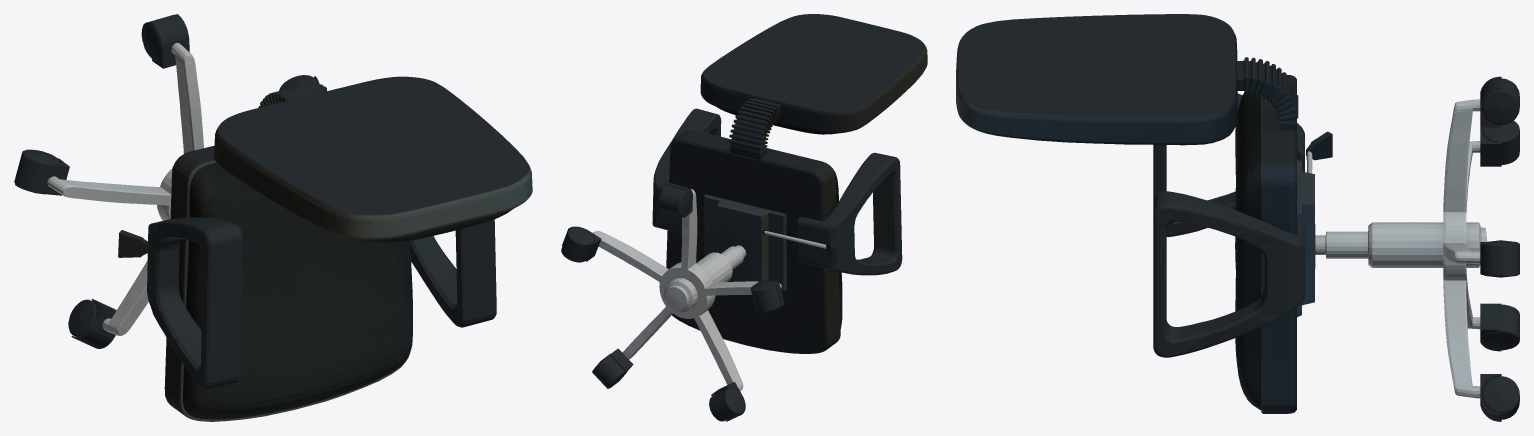
File: chair2.gltf
The picture shows the model from 3 angles, left to right: view 1: azimuth 30°, elevation 25°; view 2: azimuth 150°, elevation 25°; view 3: azimuth 270°, elevation 25°; orthographic projection. The views are drawn at different scales.
Visible parts, largest first — view 1: Object.1; view 2: Object.1; view 3: Object.1.
Part boxes in pixels (<box>): Object.1: <box>14,14,532,421</box>; Object.1: <box>561,14,927,421</box>; Object.1: <box>956,14,1519,421</box>.
Bounding box in the file's own units: 166 × 171 × 270.
1 material, 1 textured.
